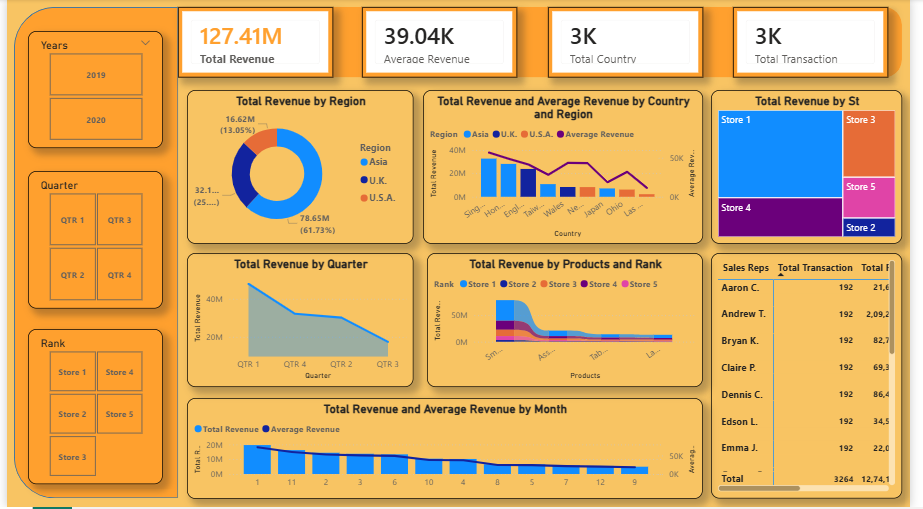

The page's visual inventory and layout, read from the dashboard file:
{"tool":"powerbi","page":{"name":"Page 1","canvas":[1280,720],"ordinal":0},"visuals":[{"type":"shape","box":[10,11.4,232.6,696.4],"z":0},{"type":"shape","box":[242.6,11.4,1026,99.9],"z":1000},{"type":"cardVisual","fields":{"Data":["Measures (2).Total Revenue"]},"box":[242.6,11.4,219.8,99.9],"z":2000},{"type":"cardVisual","fields":{"Data":["Measures (2).Average Revenue"]},"box":[503.7,11.4,219.8,99.9],"z":3000},{"type":"cardVisual","fields":{"Data":["Measures (2).Total Country"]},"box":[766.3,11.4,219.8,99.9],"z":4000},{"type":"cardVisual","fields":{"Data":["Measures (2).Total Transaction"]},"box":[1028.9,11.4,219.8,99.9],"z":5000},{"type":"donutChart","fields":{"Category":["Sheet1.Region"],"Y":["Measures (2).Total Revenue"]},"box":[255.4,128.4,321.1,218.3],"z":6000},{"type":"lineStackedColumnComboChart","fields":{"Category":["Sheet1.Country"],"Series":["Sheet1.Region"],"Y":["Measures (2).Total Revenue"],"Y2":["Measures (2).Average Revenue"]},"box":[589.3,128.4,396.7,218.3],"z":7000},{"type":"treemap","title":"Total Revenue by St","fields":{"Group":["Sheet1.Rank"],"Values":["Measures (2).Total Revenue"]},"box":[997.5,128.4,271.1,218.3],"z":8000},{"type":"areaChart","fields":{"Category":["Sheet1.Quarter"],"Y":["Measures (2).Total Revenue"]},"box":[255.4,359.6,321.1,189.8],"z":9000},{"type":"ribbonChart","fields":{"Category":["Sheet1.Products"],"Series":["Sheet1.Rank"],"Y":["Measures (2).Total Revenue"]},"box":[595.1,359.6,391,189.8],"z":10000},{"type":"pivotTable","fields":{"Rows":["Sheet1.Sales Reps"],"Values":["Measures (2).Total Transaction","Measures (2).Total Revenue","Measures (2).Average Revenue"]},"box":[997.5,359.6,271.1,348.2],"z":11000},{"type":"lineStackedColumnComboChart","fields":{"Category":["Sheet1.Month"],"Y":["Measures (2).Total Revenue"],"Y2":["Measures (2).Average Revenue"]},"box":[255.4,565.1,730.6,142.7],"z":12000},{"type":"slicer","fields":{"Values":["Sheet1.Years"]},"box":[30.4,44.7,191.3,166.3],"z":13000},{"type":"slicer","fields":{"Values":["Sheet1.Quarter"]},"box":[30.4,243.1,191.3,194.9],"z":13001},{"type":"slicer","fields":{"Values":["Sheet1.Rank"]},"box":[30.4,468.4,191.3,219.9],"z":13002}]}

Visuals, with their boxes in screenshot pixels (x1, y1, x2, y2), scaled from the page's 1280x720 canvas onto the 923x509 screenshot:
shape: (7, 8, 175, 500)
shape: (175, 8, 915, 79)
cardVisual - Measures (2).Total Revenue: (175, 8, 333, 79)
cardVisual - Measures (2).Average Revenue: (363, 8, 522, 79)
cardVisual - Measures (2).Total Country: (553, 8, 711, 79)
cardVisual - Measures (2).Total Transaction: (742, 8, 900, 79)
donutChart - Sheet1.Region x Measures (2).Total Revenue: (184, 91, 416, 245)
lineStackedColumnComboChart - Sheet1.Country x Sheet1.Region: (425, 91, 711, 245)
"Total Revenue by St" treemap: (719, 91, 915, 245)
areaChart - Sheet1.Quarter x Measures (2).Total Revenue: (184, 254, 416, 388)
ribbonChart - Sheet1.Products x Sheet1.Rank: (429, 254, 711, 388)
pivotTable - Sheet1.Sales Reps x Measures (2).Total Transaction: (719, 254, 915, 500)
lineStackedColumnComboChart - Sheet1.Month x Measures (2).Total Revenue: (184, 399, 711, 500)
slicer - Sheet1.Years: (22, 32, 160, 149)
slicer - Sheet1.Quarter: (22, 172, 160, 310)
slicer - Sheet1.Rank: (22, 331, 160, 487)
